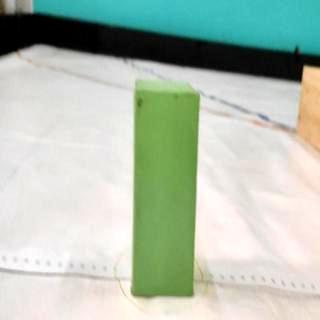greenbox: (132, 79, 202, 296)
